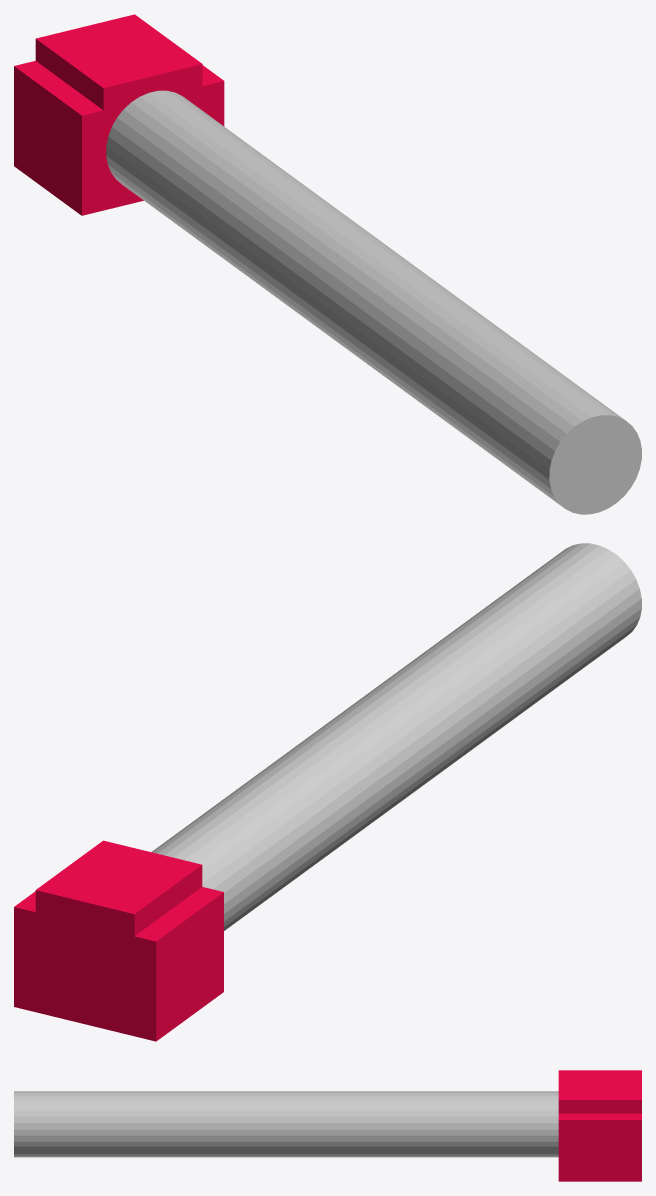
File: luckytest1.obj
The picture shows the model from 3 angles, top to bottom: view 1: azimuth 30°, elevation 25°; view 2: azimuth 150°, elevation 25°; view 3: azimuth 270°, elevation 25°; orthographic projection. The views are drawn at different scales.
Visible parts, largest first — view 1: cable_end; view 2: cable_end; view 3: cable_end.
Part boxes in pixels (box(x1,y1,x2,y2)): cable_end: box(14, 14, 641, 514); cable_end: box(14, 543, 641, 1041); cable_end: box(14, 1070, 641, 1181).
Bounding box in the file's own units: 0.0177 × 0.0145 × 0.1102.
